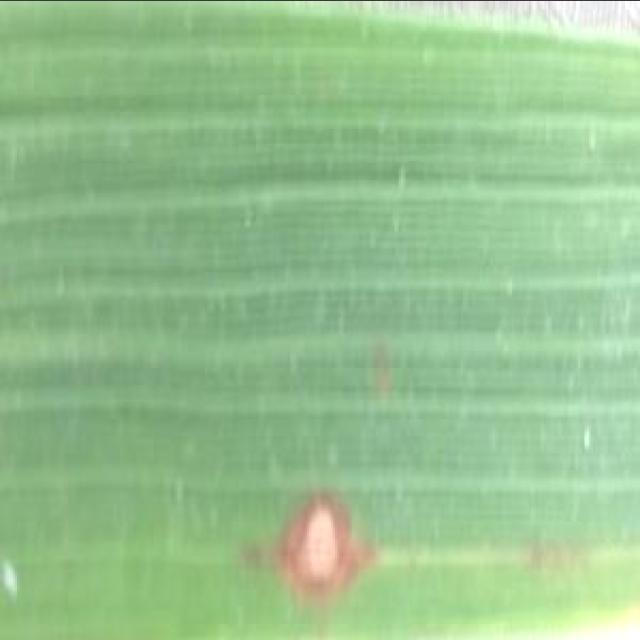Brown_Spot: (264, 475, 396, 609)
